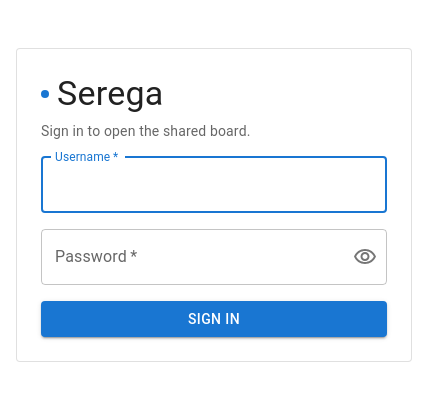
Test case: responsive shell and login › shows login failures without discarding the username
Step 1. Type "alex" into the field labelled "Username *" → (214, 185), box left=41, top=157, right=387, bottom=213
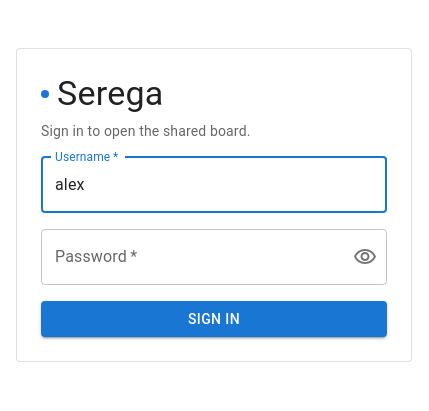
Step 2. Type "incorrect-password" into the password field labelled "Password *" → (189, 257), box left=41, top=229, right=337, bottom=285
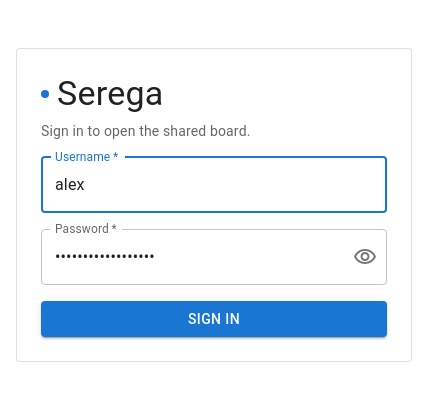
Step 3. Click the button "Sign in" → (214, 319), box left=41, top=301, right=387, bottom=337
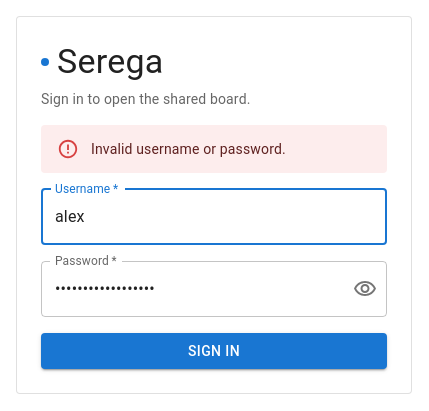
Check: the text "Invalid username or password." is shown, box left=91, top=141, right=286, bottom=157
